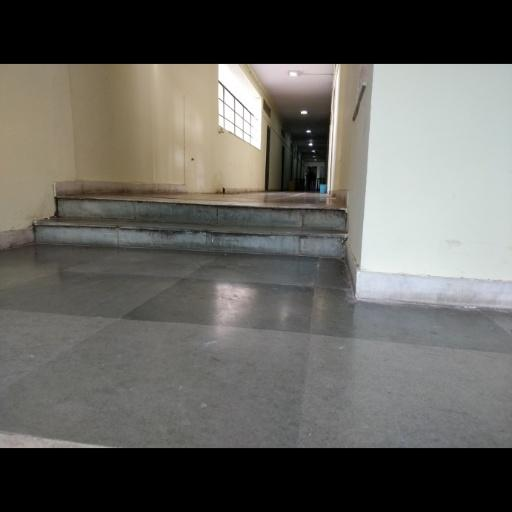stairs: (34, 194, 346, 258)
